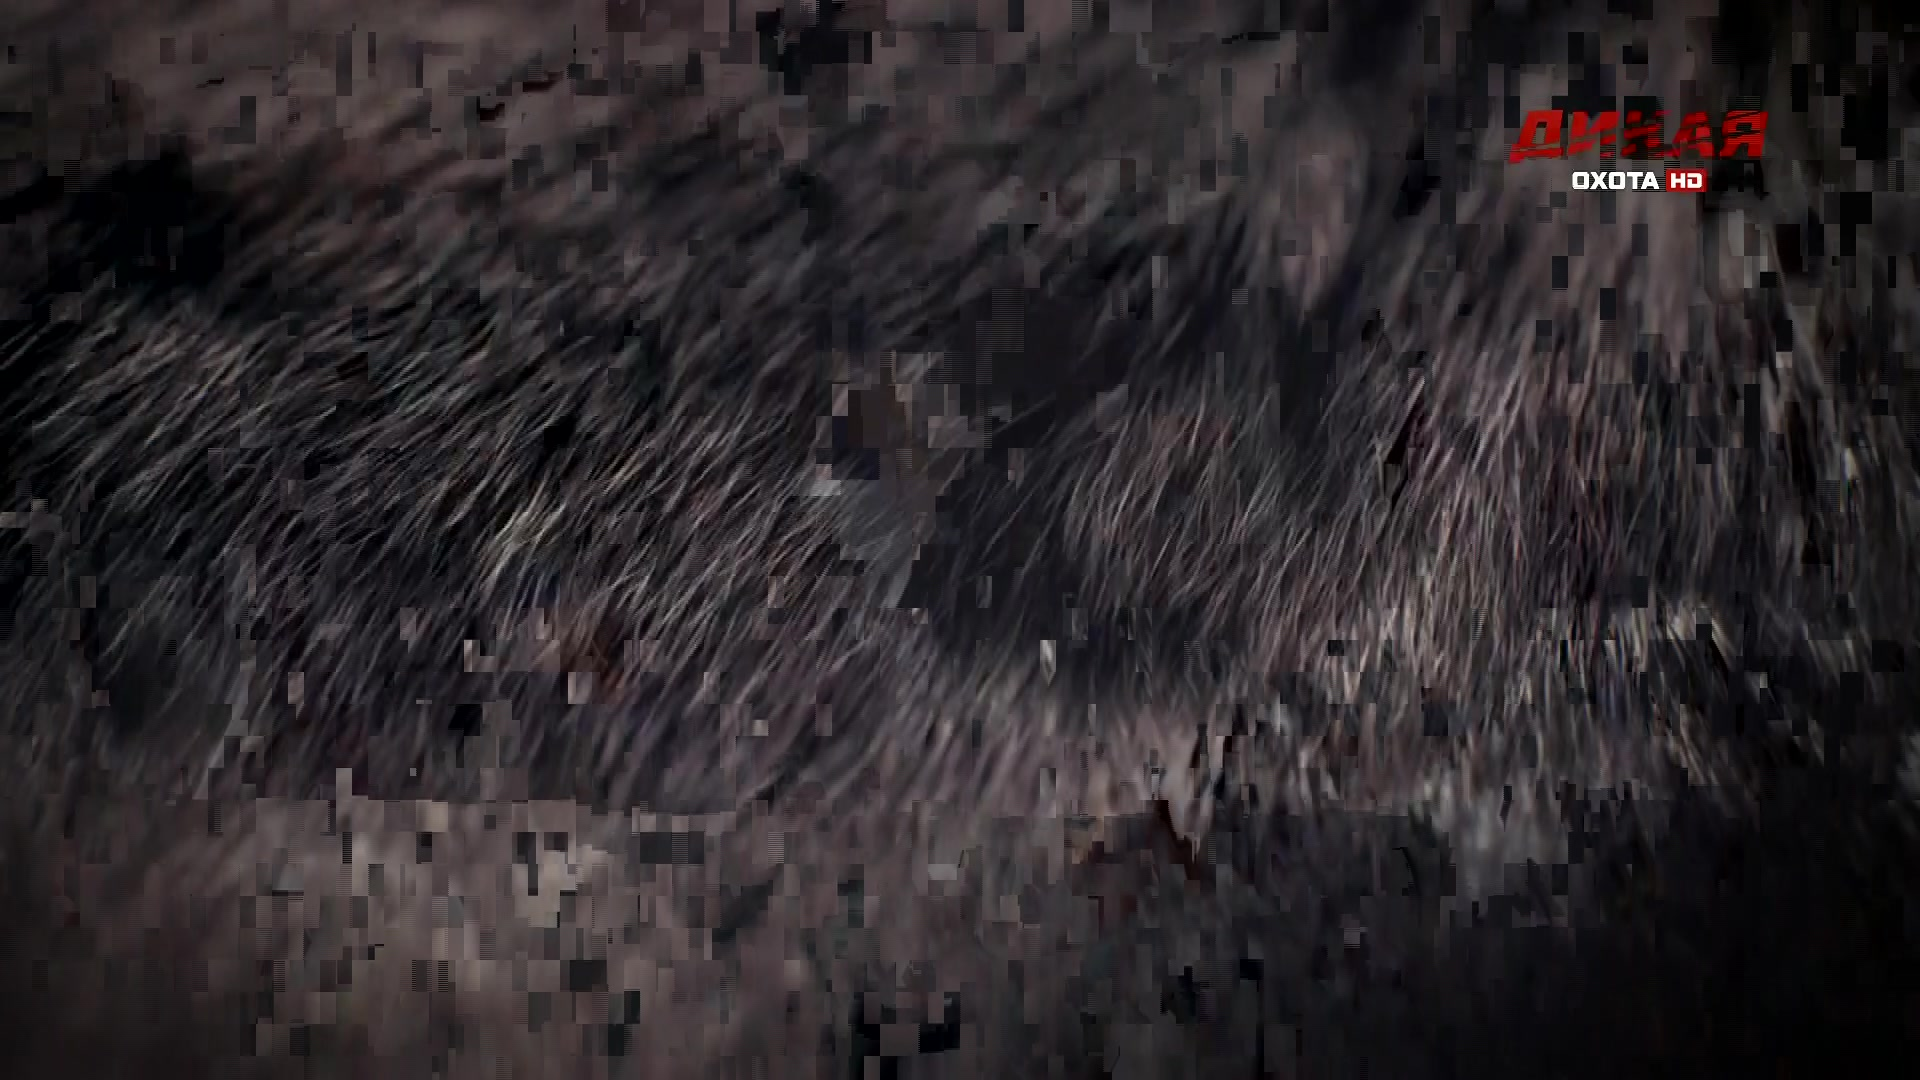Dikaya_Ohota_HD: (1506, 108, 1771, 195)
